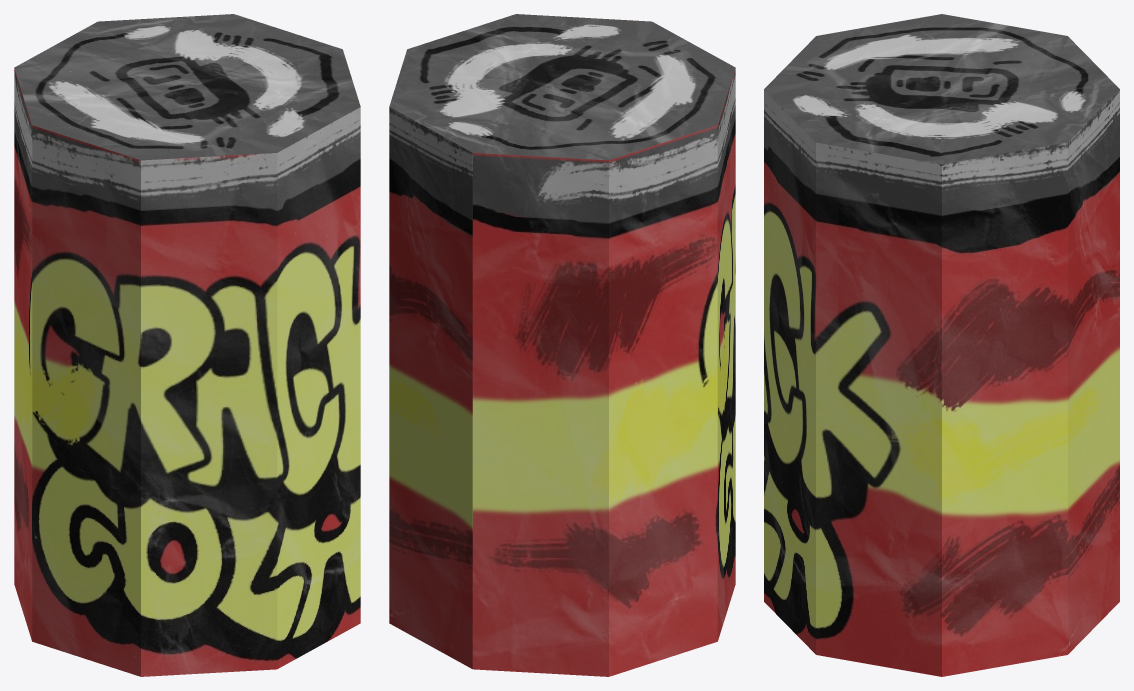
File: soda(crck cola).fbx
3 views of the same model, side by side, from view 1: azimuth 30°, elevation 25°; view 2: azimuth 150°, elevation 25°; view 3: azimuth 270°, elevation 25° (orthographic).
Parts seen in each view (by area): view 1: can; view 2: can; view 3: can.
Boxes of the visible parts, left/top/right/bottom form: can: left=14, top=14, right=360, bottom=676; can: left=389, top=14, right=735, bottom=676; can: left=764, top=14, right=1119, bottom=676.
Size of the model in its own units: 73.46 by 117 by 73.46.
Materials: 1 (1 with a texture image).
